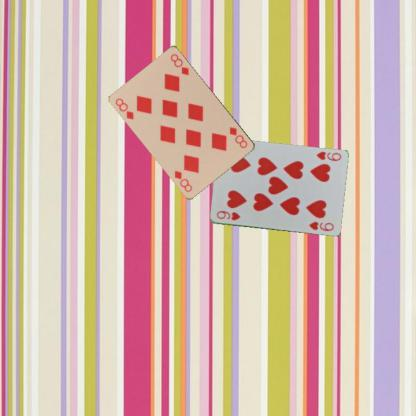8d: (227, 124, 249, 150), (113, 95, 135, 121)
9h: (214, 208, 241, 222), (314, 149, 342, 162)
